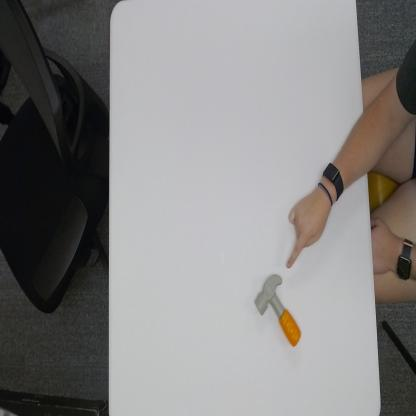Arm: (337, 110, 372, 184)
Hammer: (255, 273, 302, 349)
Hand: (285, 183, 334, 269)
